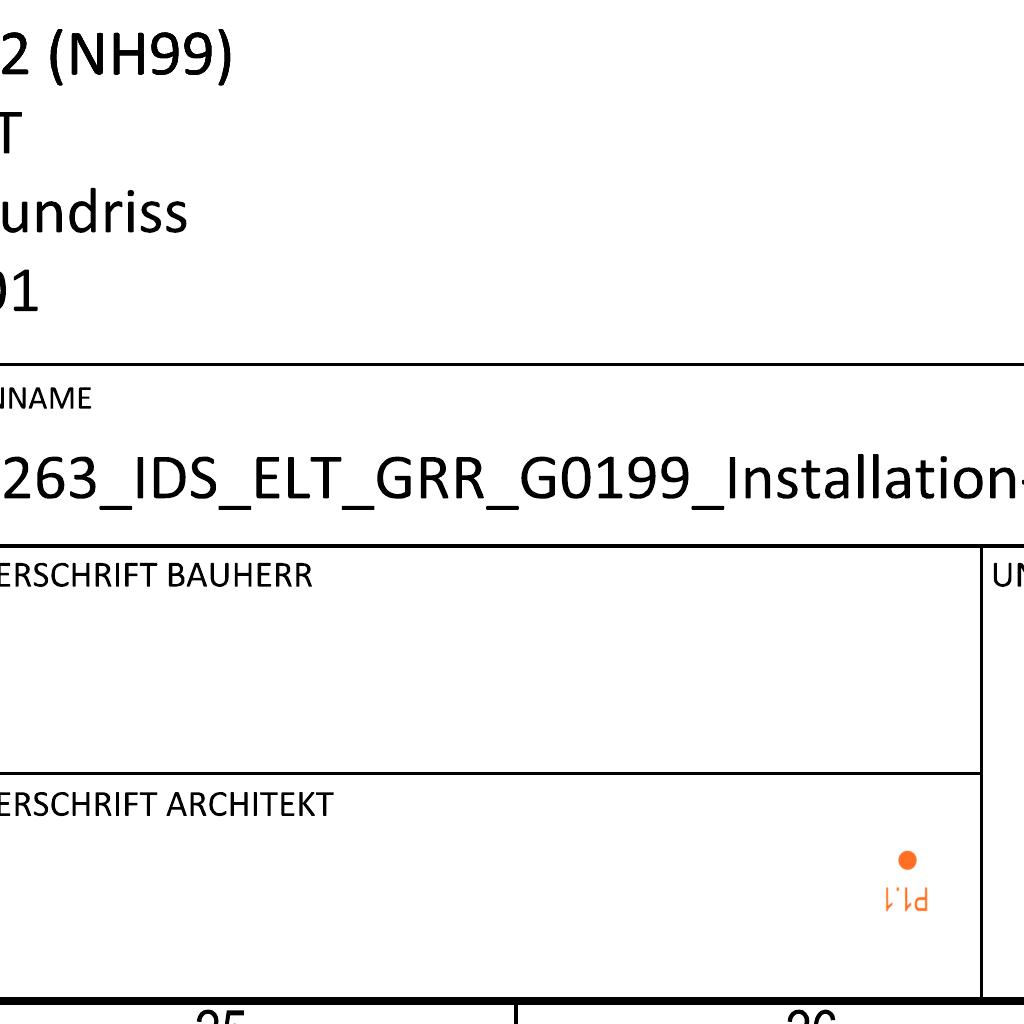Downlight_LED_Einbauleuchten_Flur_2: (883, 849, 929, 913)
